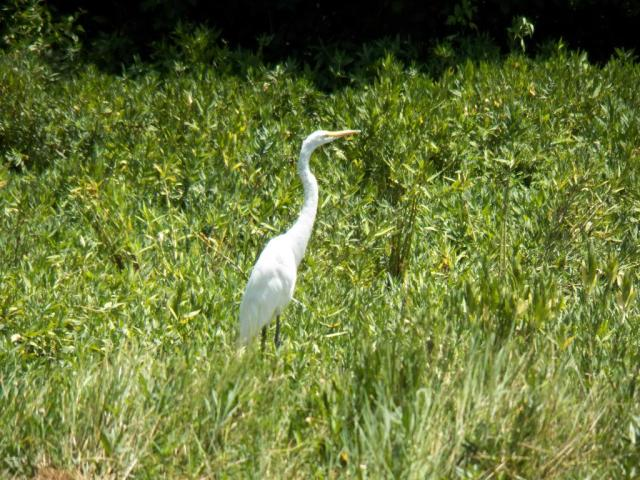Bird: (233, 127, 364, 364)
